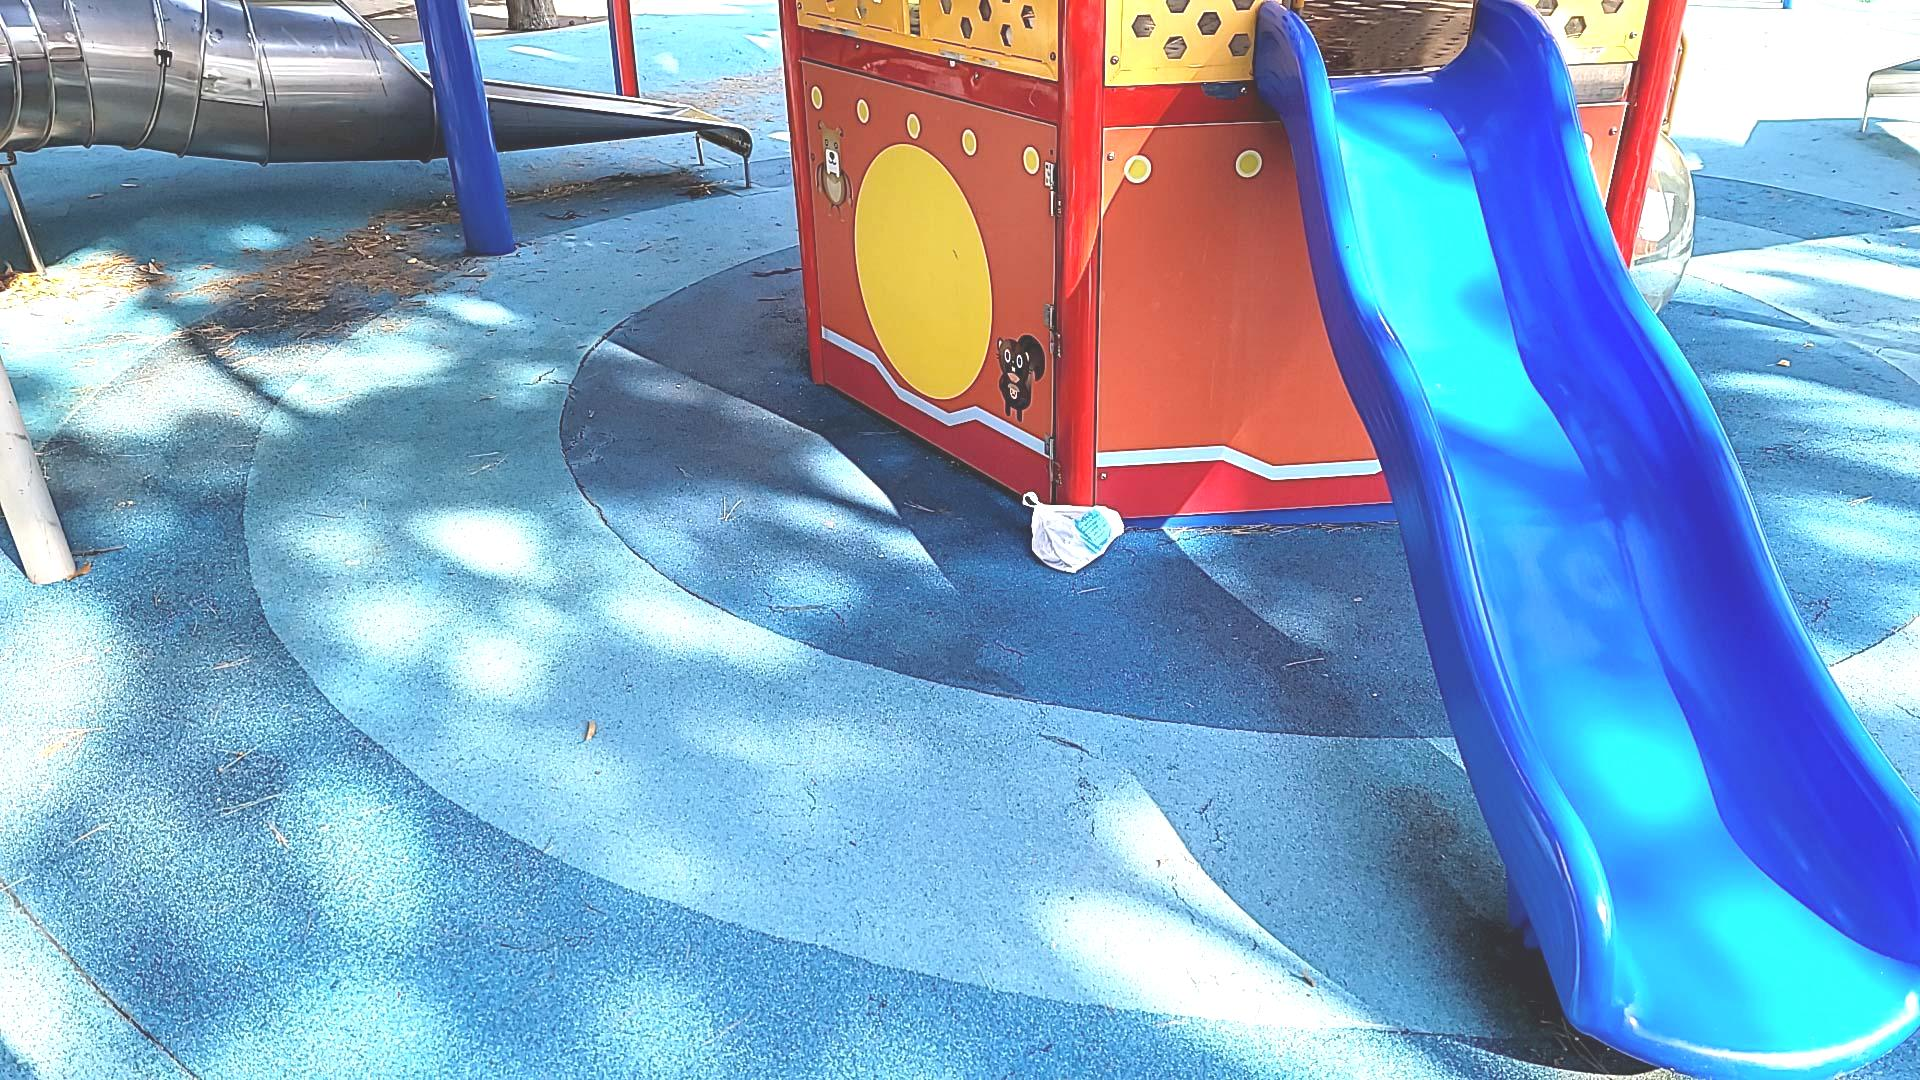white_bag: (1015, 479, 1127, 583)
